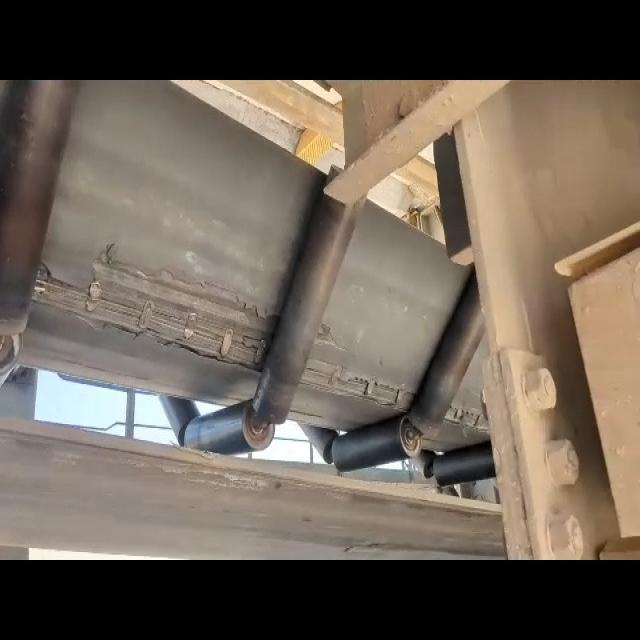Tear: (25, 236, 282, 376), (303, 361, 416, 412)
Wear: (310, 318, 346, 360)
